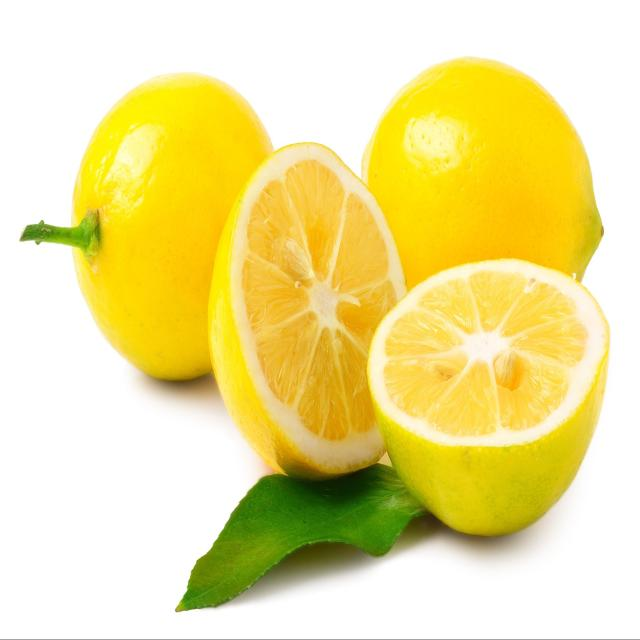lemon: (362, 252, 613, 539)
